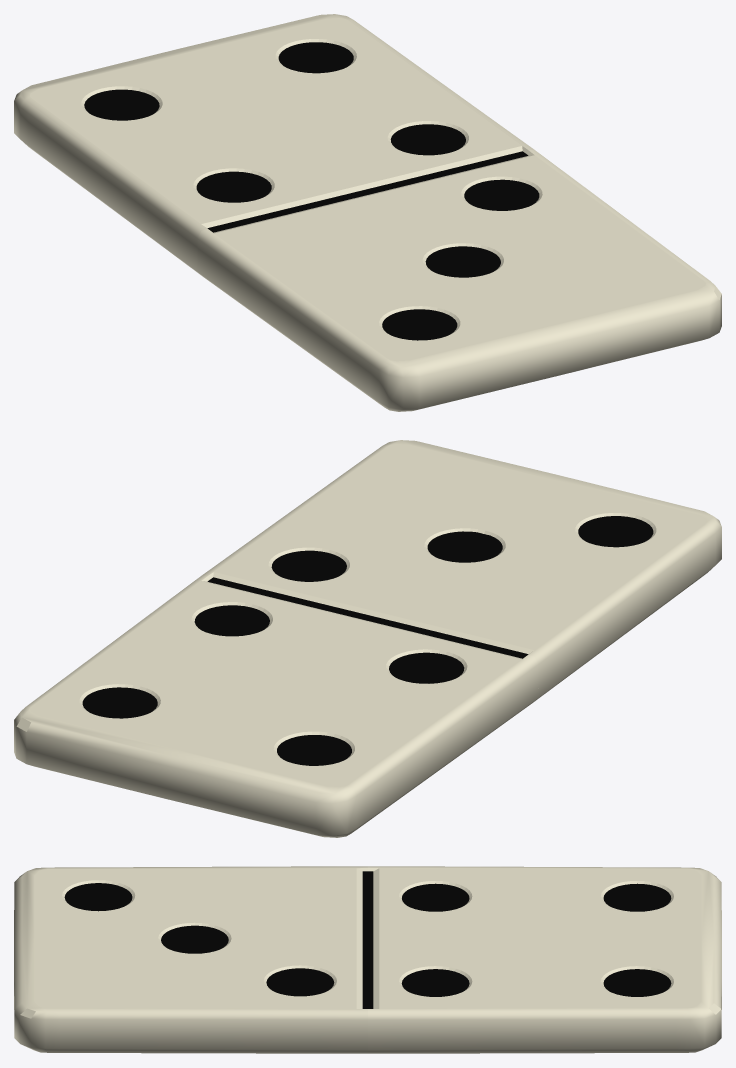
Rendered from Domino_3_4.glb.
3 views of the same model, one above another, from view 1: azimuth 30°, elevation 25°; view 2: azimuth 150°, elevation 25°; view 3: azimuth 270°, elevation 25° (orthographic). The views are drawn at different scales.
Parts seen in each view (by area): view 1: Domino_3_4_A.001, Domino_3_4_B.001; view 2: Domino_3_4_B.001, Domino_3_4_A.001; view 3: Domino_3_4_A.001, Domino_3_4_B.001.
Part boxes in pixels (box(x1,y1,x2,y2)): Domino_3_4_A.001: box(197, 149, 721, 411); Domino_3_4_B.001: box(14, 14, 533, 276); Domino_3_4_B.001: box(14, 575, 538, 837); Domino_3_4_A.001: box(202, 440, 721, 702); Domino_3_4_A.001: box(14, 866, 367, 1053); Domino_3_4_B.001: box(368, 866, 721, 1053).
Size of the model in its own units: 0.7725 by 0.105 by 1.54.
